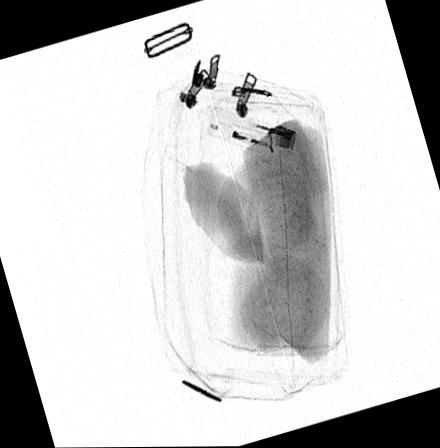Lighter: (206, 105, 297, 161)
